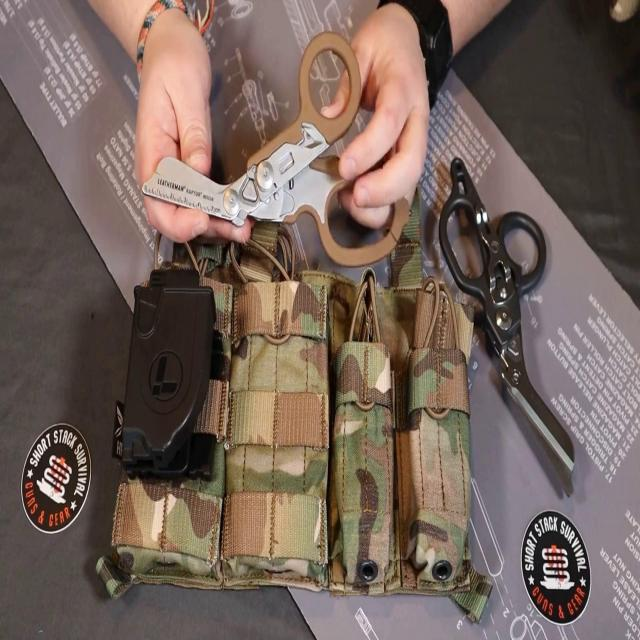scissor: (142, 31, 410, 267), (440, 156, 575, 498)
